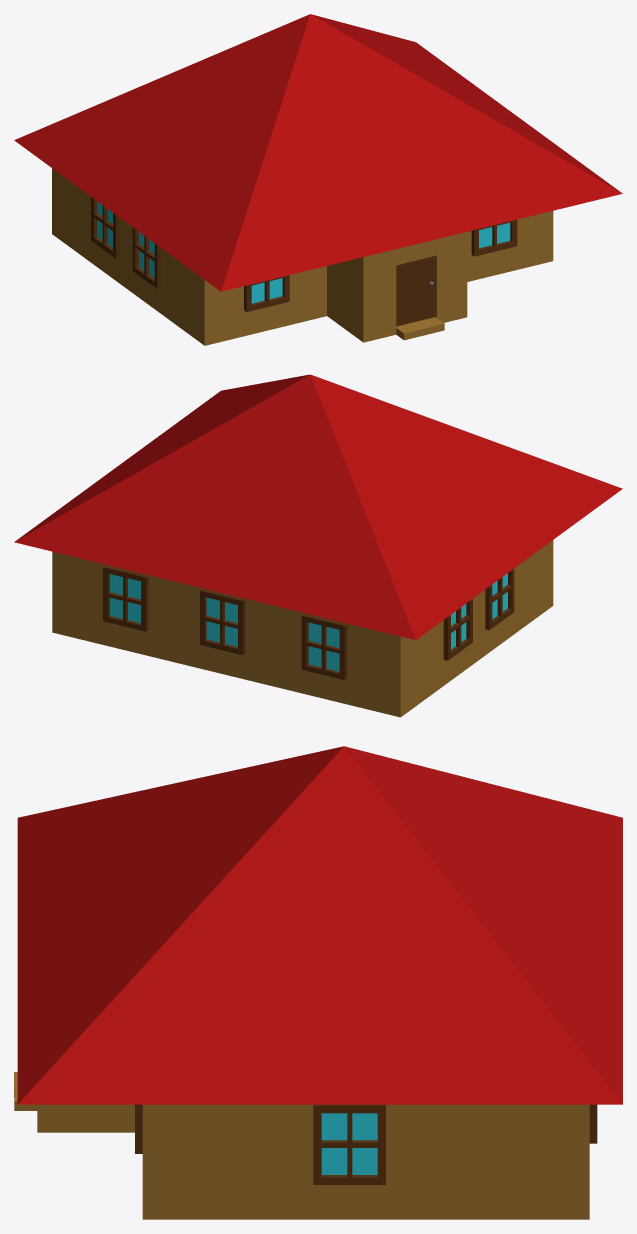
The model's file is house2.gltf.
The picture shows the model from 3 angles, top to bottom: view 1: azimuth 30°, elevation 25°; view 2: azimuth 150°, elevation 25°; view 3: azimuth 270°, elevation 25°; orthographic projection. The views are drawn at different scales.
Parts seen in each view (by area): view 1: Cube.012; view 2: Cube.012; view 3: Cube.012.
Boxes of the visible parts, x1,y1,x2,y2 form: Cube.012: [14, 14, 622, 345]; Cube.012: [14, 374, 622, 717]; Cube.012: [14, 746, 622, 1219].
Bounding box in the file's own units: 3.4 × 1.93 × 3.05.
